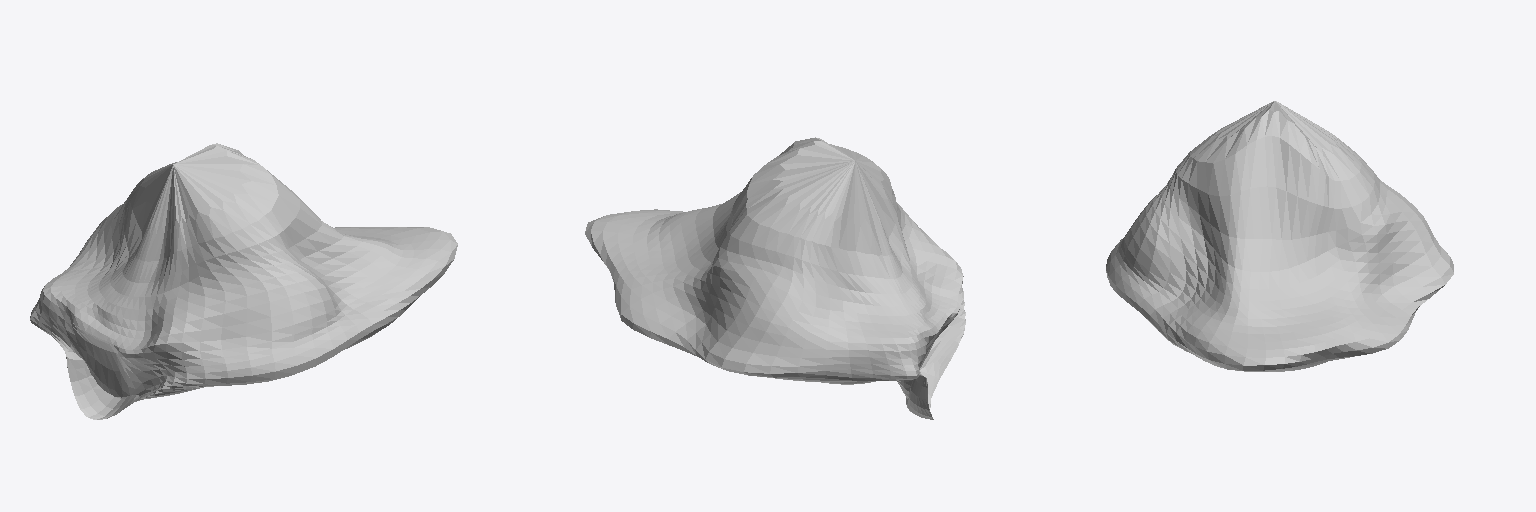
File: motteterre.obj
The picture shows the model from 3 angles: view 1: azimuth 30°, elevation 25°; view 2: azimuth 150°, elevation 25°; view 3: azimuth 270°, elevation 25°; orthographic projection.
Visible parts, largest first — view 1: Sphère; view 2: Sphère; view 3: Sphère.
Boxes of the visible parts, <box> form: Sphère: <box>30,143,457,419</box>; Sphère: <box>585,137,965,419</box>; Sphère: <box>1106,101,1453,371</box>.
Bounding box in the file's own units: 4.32 × 2.71 × 3.48.